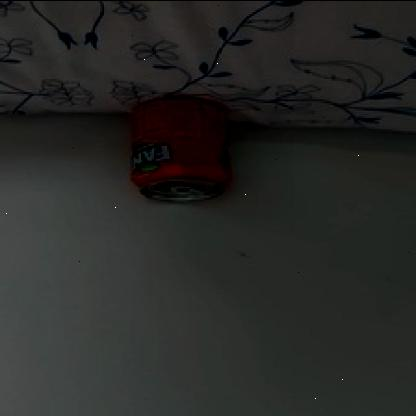Can: (130, 93, 236, 205)
